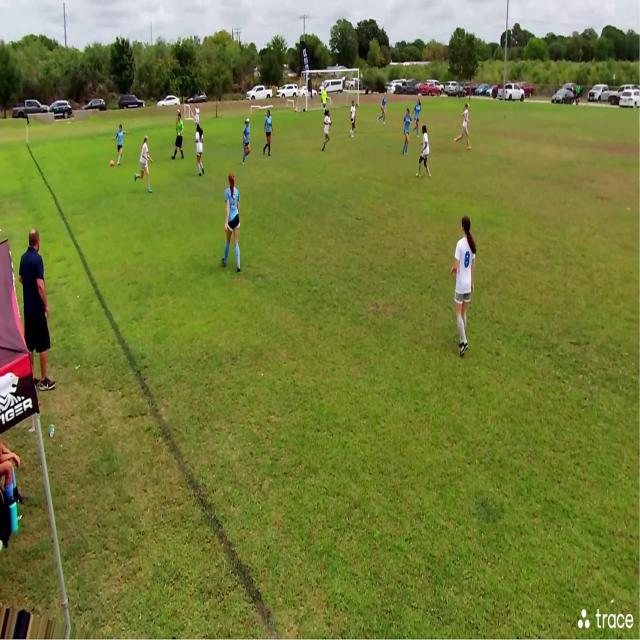ball: (109, 158, 115, 168)
team1: (224, 175, 243, 276), (402, 109, 413, 158), (115, 124, 127, 167), (242, 116, 252, 164), (264, 110, 274, 158), (413, 97, 422, 134)
team2: (450, 220, 478, 356), (135, 136, 152, 193), (418, 126, 433, 182), (458, 102, 473, 151), (194, 127, 206, 180), (321, 111, 331, 153), (195, 104, 204, 140), (379, 90, 388, 124), (349, 104, 357, 140)
